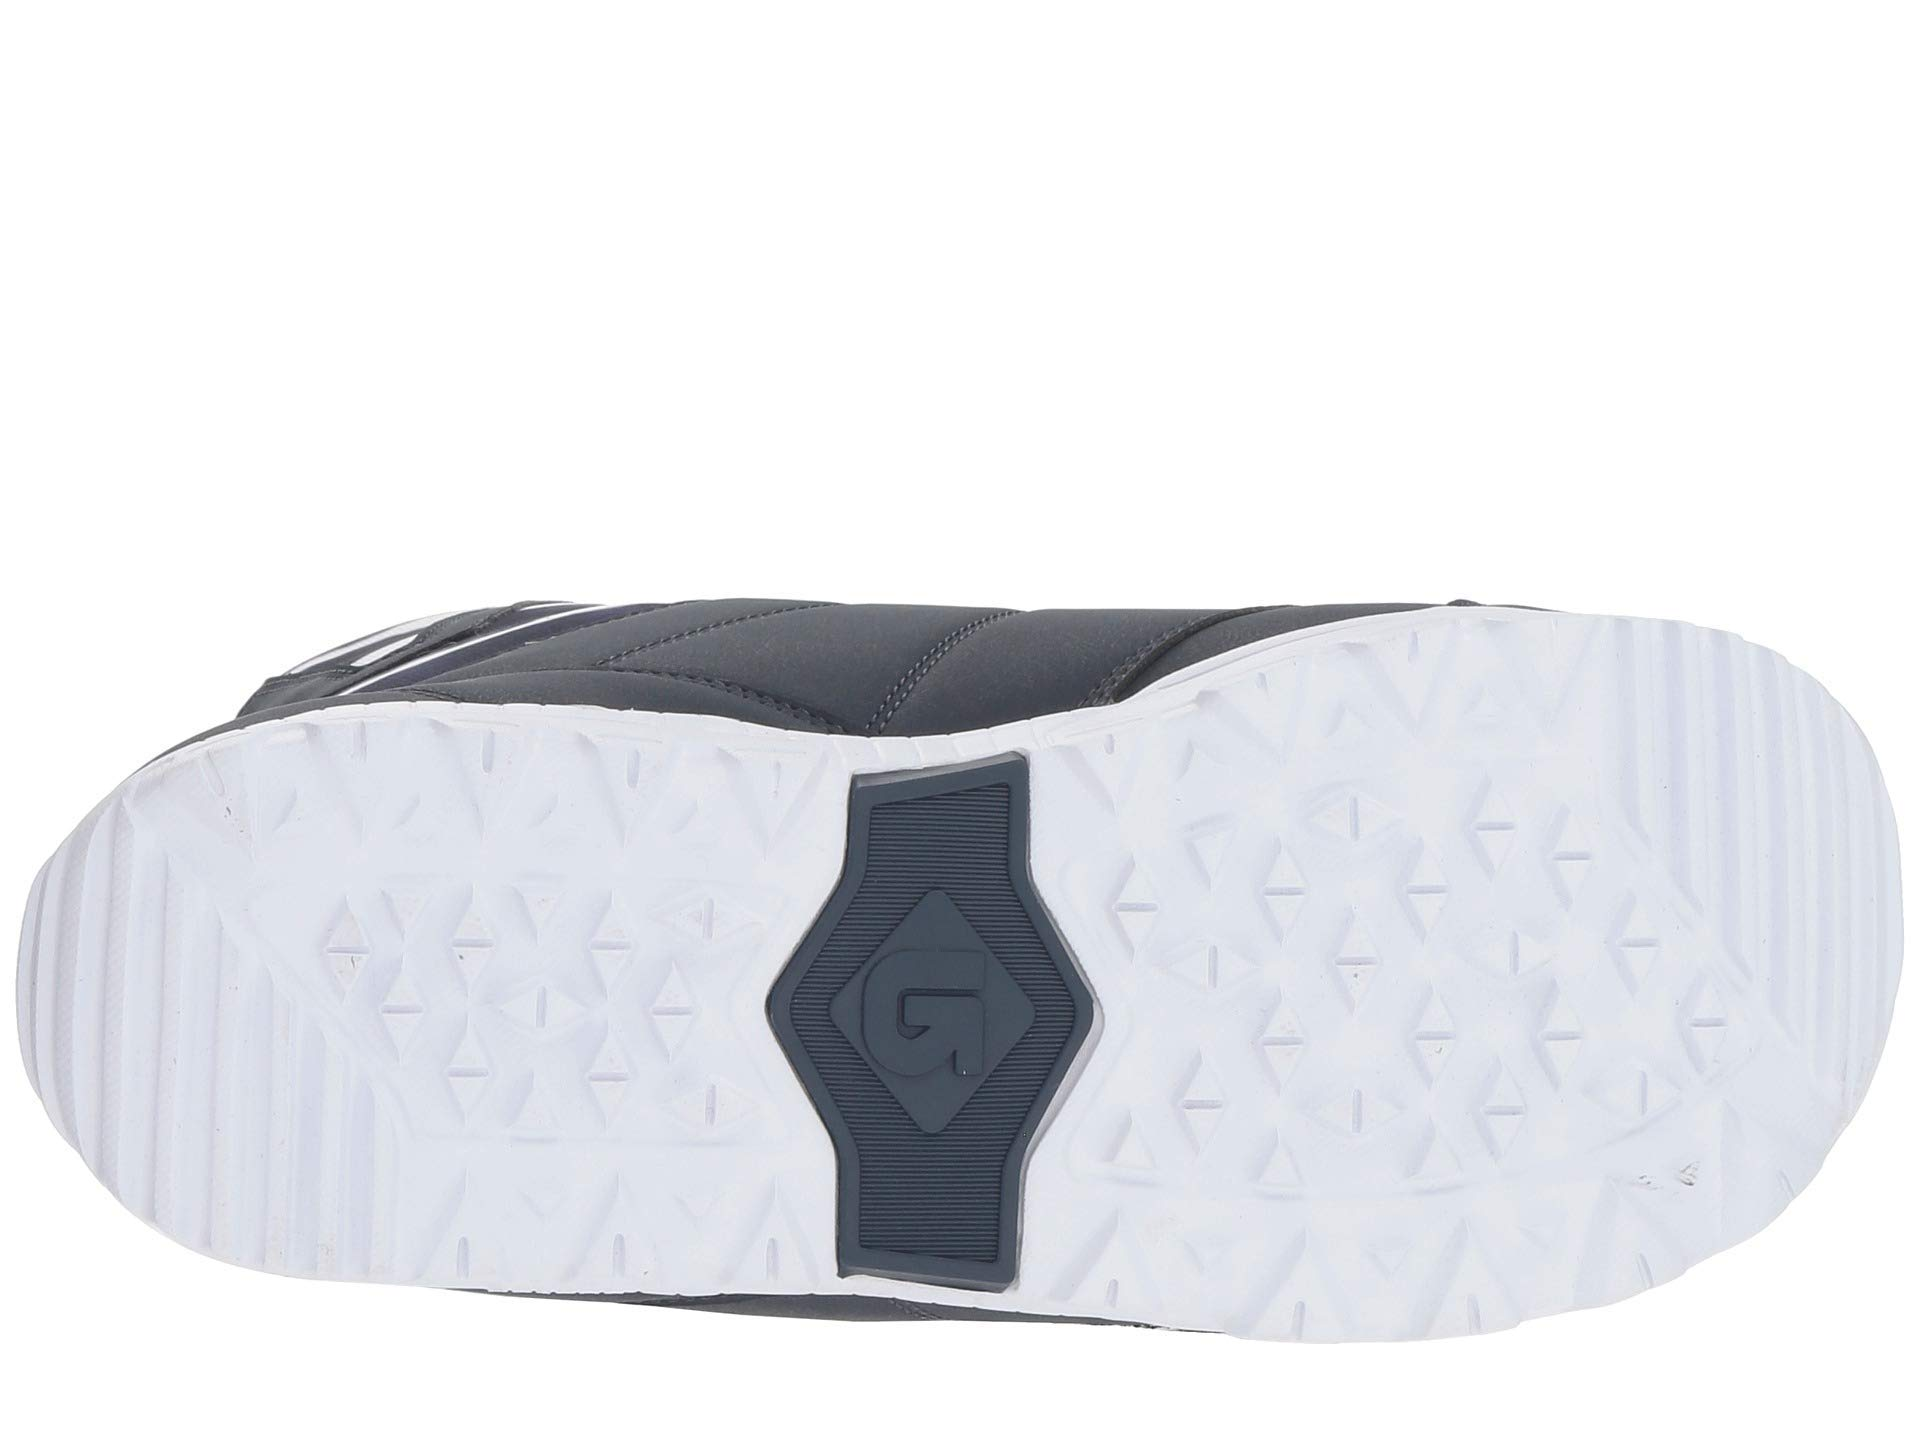line: (809, 853, 1063, 1144), (1686, 681, 1878, 870), (91, 941, 269, 1128)
quad: (809, 853, 1063, 1144)
text: (809, 853, 1063, 1144)
triangle: (1105, 803, 1527, 1187), (372, 805, 739, 1159), (1196, 1222, 1370, 1384), (1497, 971, 1618, 1103), (287, 895, 389, 1015)
